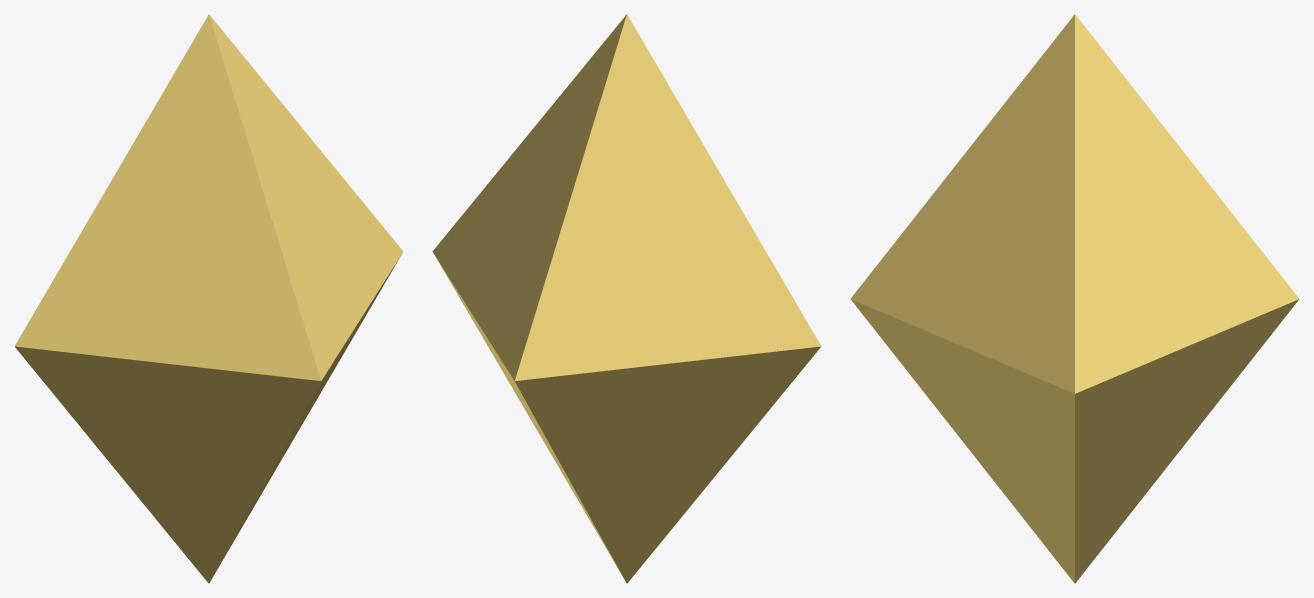
File: gem.gltf
3 renders of one model, left to right at view 1: azimuth 30°, elevation 25°; view 2: azimuth 150°, elevation 25°; view 3: azimuth 270°, elevation 25°, orthographic.
Visible parts, largest first — view 1: gem; view 2: gem; view 3: gem.
Boxes of the visible parts, x1=… form: gem: x1=14, y1=14, x2=403, y2=583; gem: x1=432, y1=14, x2=821, y2=583; gem: x1=850, y1=14, x2=1299, y2=583.
Bounding box in the file's own units: 2 × 2.8 × 2.
